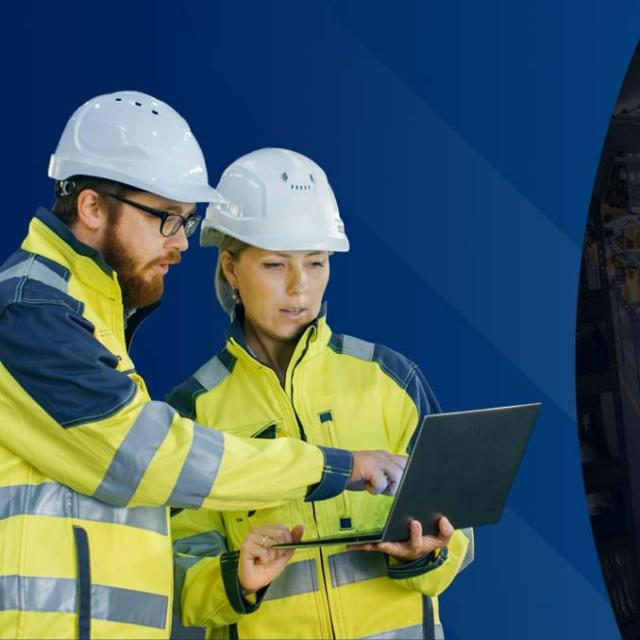helmet: (42, 84, 226, 212), (200, 122, 365, 261)
no-goggles: (76, 182, 206, 245), (225, 247, 343, 276)
vest: (160, 323, 463, 639), (0, 223, 205, 640)
